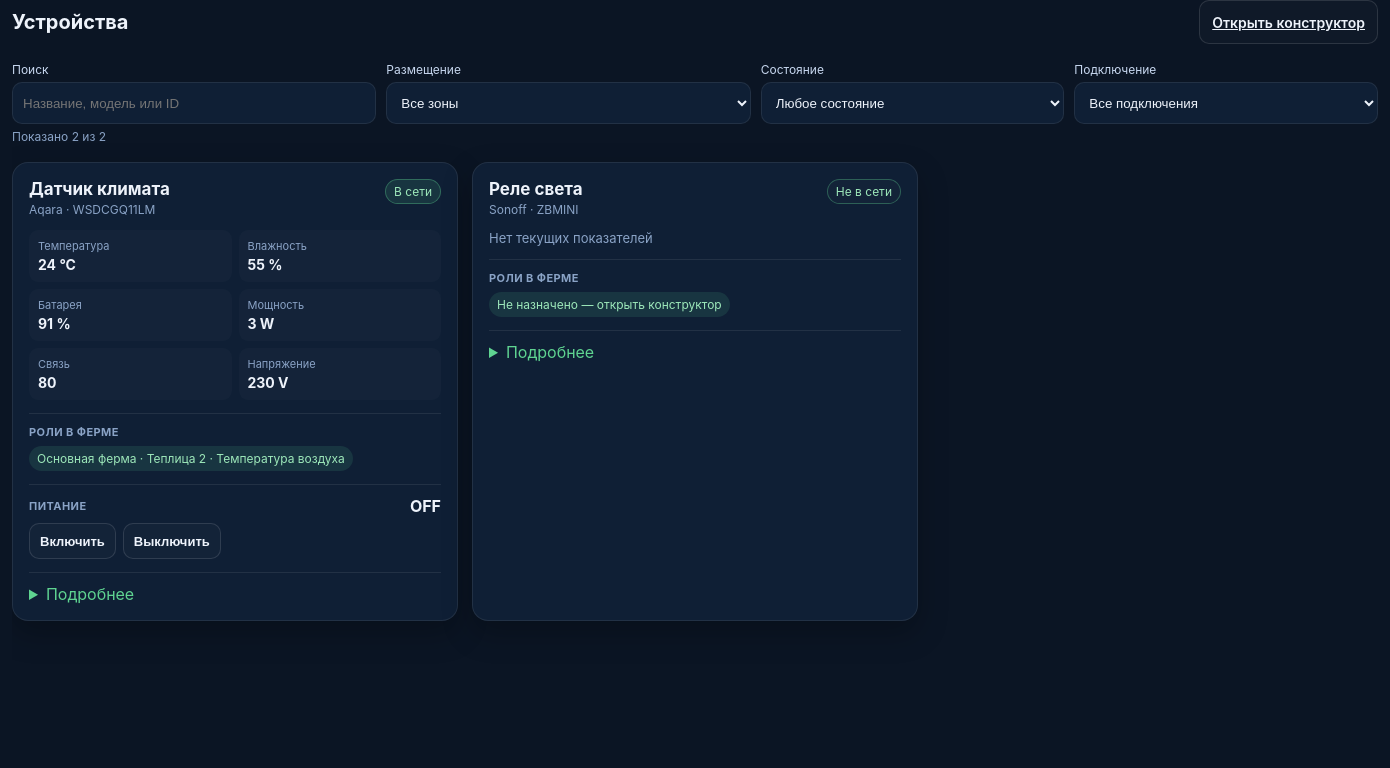
Test: AppZigbeeDevices › filtruet kartochki po strochke i sostoyaniyu
The width and height of the screenshot is (1390, 768).
Expected: the heading "Датчик климата" is shown, [29, 179, 170, 199]
Type "ZBMINI" into the search field with placeholder "Название, модель или ID".
click(194, 103); type("ZBMINI")  # box [12, 82, 376, 124]
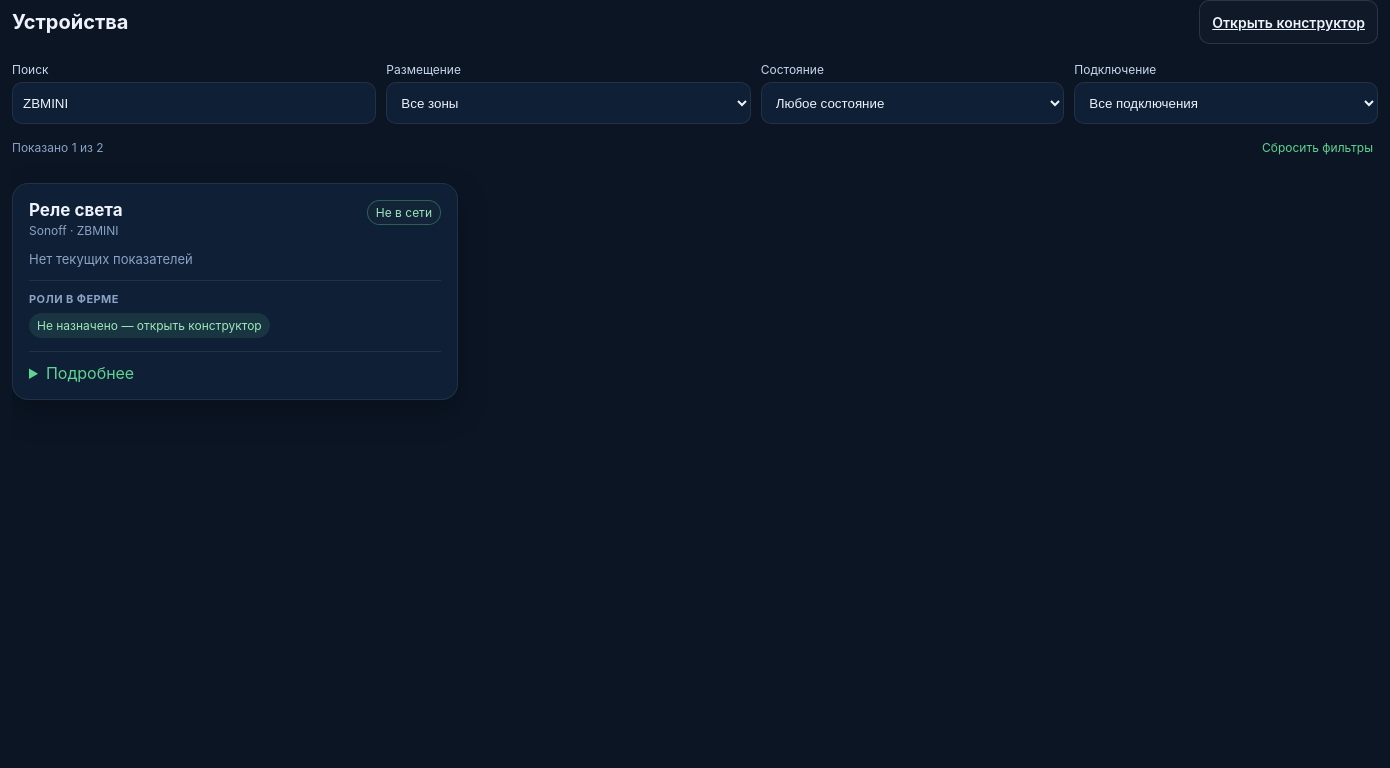
Expected: the heading "Реле света" is shown, [29, 200, 123, 220]
Now the heading "Датчик климата" is gone
Select "В сети" in the dropdown labelled "Состояние" at (912, 103), box [761, 82, 1064, 124]
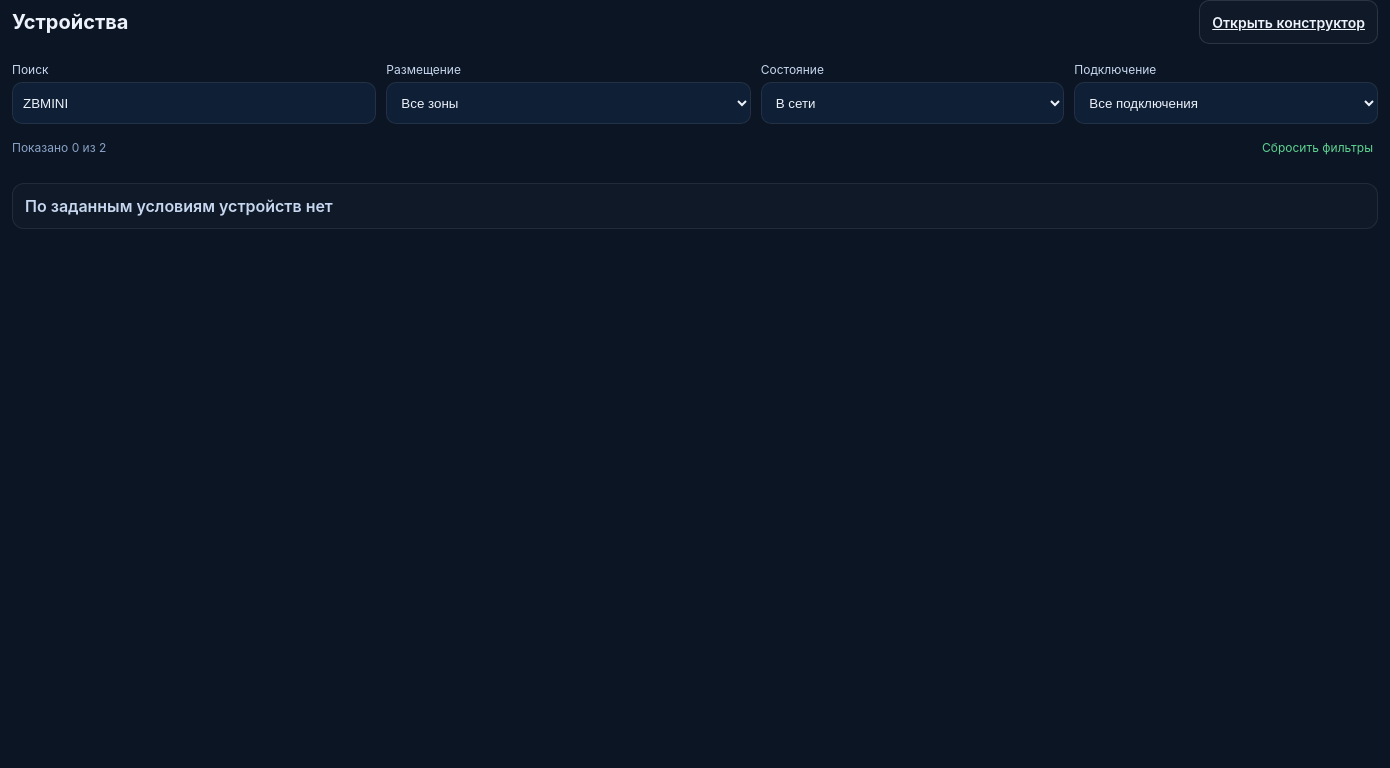
Now the text "По заданным условиям устройств нет" is shown, box [25, 196, 333, 216]
